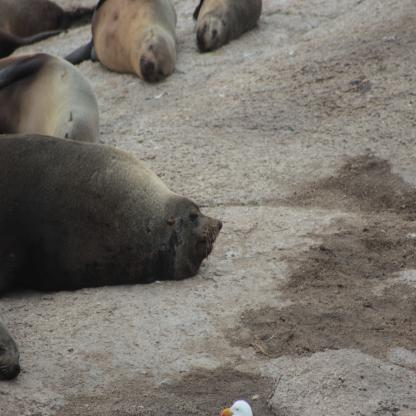face: (175, 199, 225, 265), (138, 41, 167, 86), (0, 336, 22, 382), (195, 20, 220, 53)
